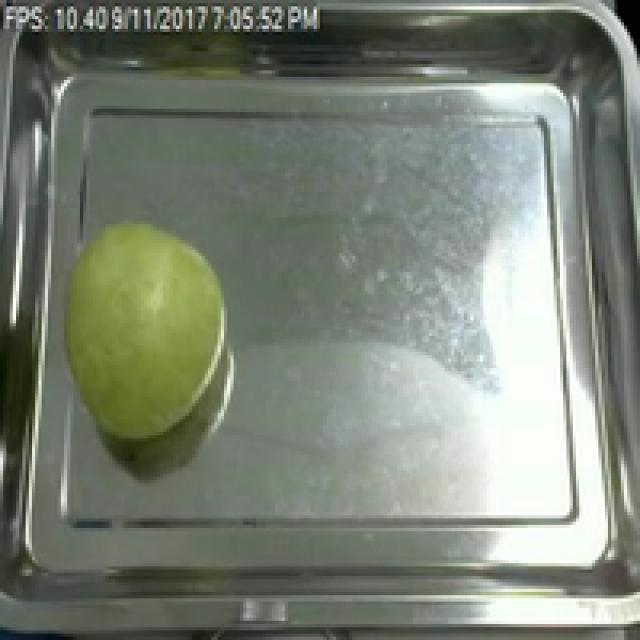Fruit: (26, 208, 243, 451)
